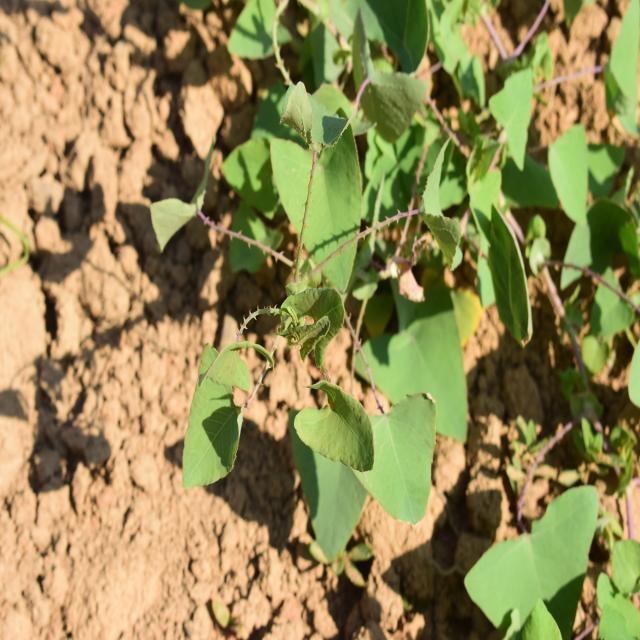Asiatic_Smartweed: (225, 29, 551, 325), (182, 241, 443, 564)
